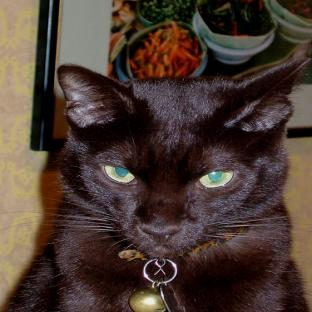Animal: (5, 59, 310, 311)
